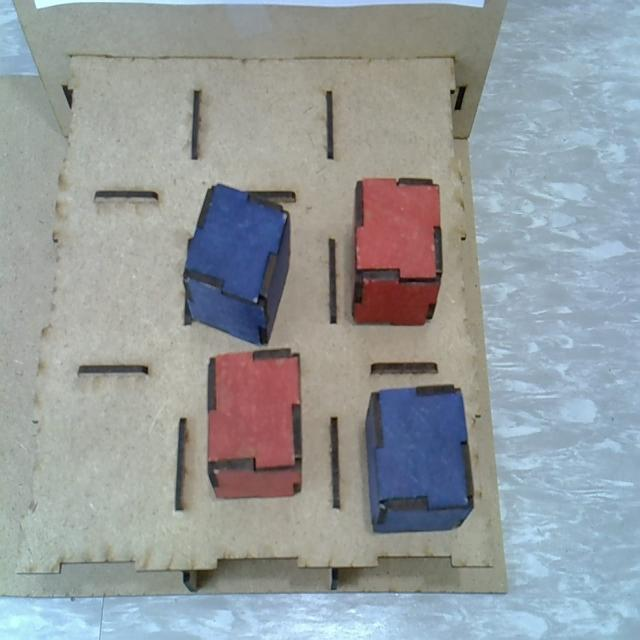blue_box: (184, 180, 291, 344), (364, 385, 473, 534)
red_box: (206, 348, 304, 499), (355, 178, 444, 327)
